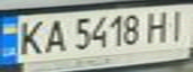1: (106, 11, 127, 47)
4: (90, 14, 112, 50)
5: (69, 14, 93, 52)
8: (121, 11, 145, 46)
A: (39, 16, 69, 54)
H: (142, 8, 175, 44)
I: (163, 6, 193, 42)
K: (12, 17, 48, 56)
